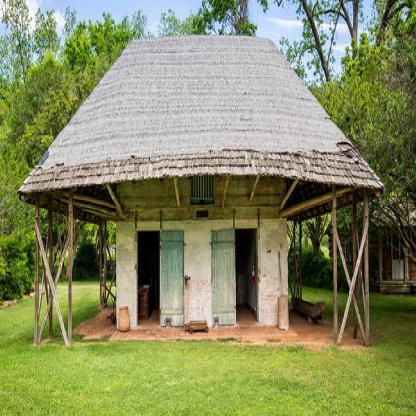Building Outline: (16, 34, 385, 347)
Dont: (291, 295, 325, 325), (278, 295, 289, 330), (184, 319, 209, 334), (118, 306, 130, 333)
Door: (235, 229, 258, 323), (138, 230, 160, 326)
Facade: (116, 61, 287, 327)
Ground Floor: (116, 182, 287, 327)
Pillar: (333, 186, 369, 347), (35, 200, 73, 346)
Roof: (16, 34, 385, 225)
